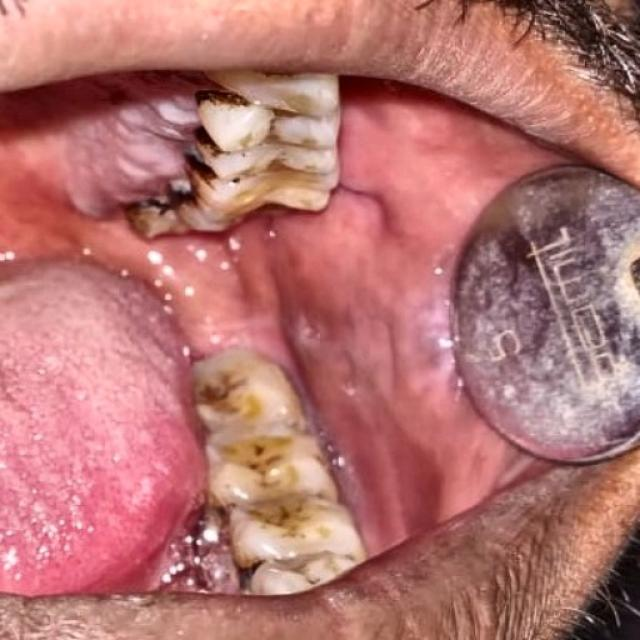cancer-detection: (34, 87, 206, 227), (110, 475, 239, 598)
processing_area: (0, 74, 572, 599)
